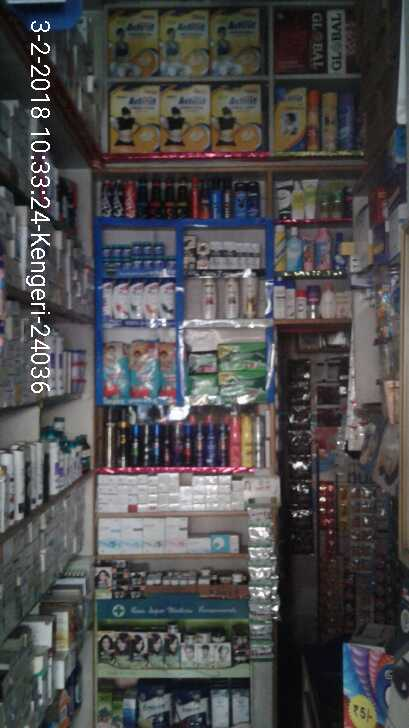beauty: (213, 226, 260, 271), (197, 278, 219, 321), (222, 276, 241, 325), (144, 276, 159, 326), (127, 274, 143, 319), (242, 276, 260, 316), (159, 280, 176, 322), (180, 233, 197, 273), (114, 277, 127, 322), (102, 280, 114, 320), (210, 237, 223, 272), (197, 238, 209, 270)
pharmacy: (219, 366, 276, 405), (97, 240, 173, 266), (155, 339, 182, 407), (131, 338, 158, 404), (102, 340, 130, 401), (220, 342, 270, 370)
